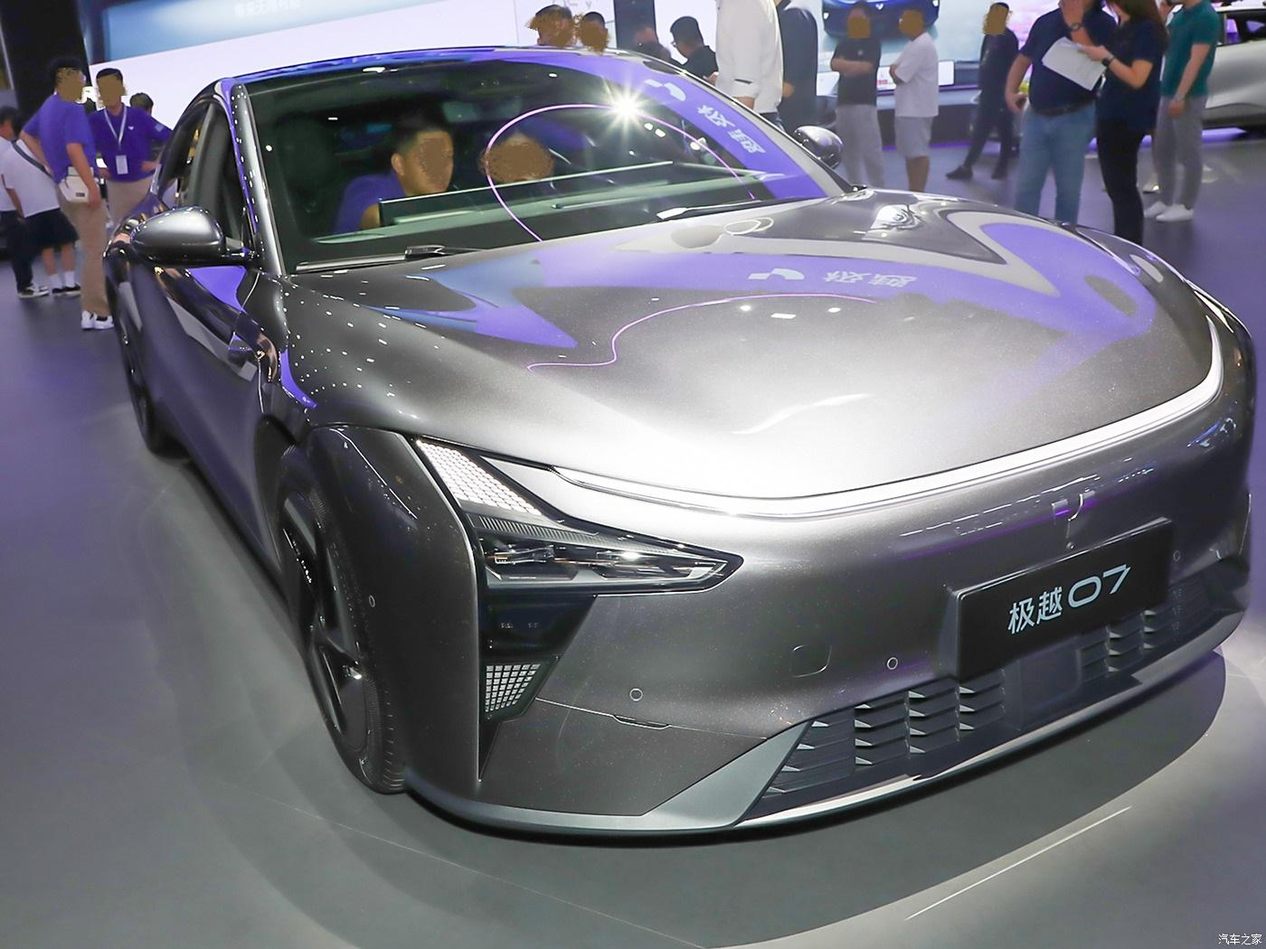JIYUE: (1050, 489, 1097, 540)
